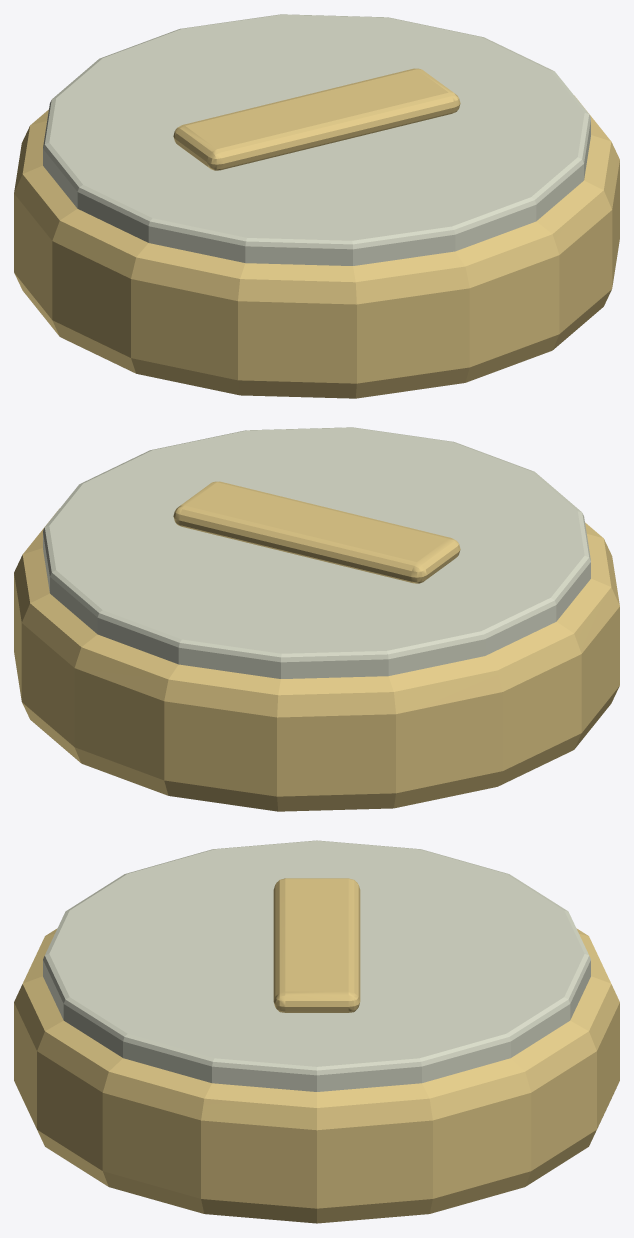
File: scrap_coin.glb
3 views of the same model, one above another, from view 1: azimuth 30°, elevation 25°; view 2: azimuth 150°, elevation 25°; view 3: azimuth 270°, elevation 25° (orthographic).
Parts seen in each view (by area): view 1: Surface_WorldBrass, Surface_WorldIvory; view 2: Surface_WorldBrass, Surface_WorldIvory; view 3: Surface_WorldIvory, Surface_WorldBrass.
Part boxes in pixels (x1,y1,x2,y2): Surface_WorldBrass: [14, 68, 619, 398]; Surface_WorldIvory: [43, 14, 590, 265]; Surface_WorldBrass: [14, 481, 619, 811]; Surface_WorldIvory: [43, 427, 590, 678]; Surface_WorldIvory: [43, 840, 590, 1091]; Surface_WorldBrass: [14, 878, 619, 1223].
Bounding box in the file's own units: 0.42 × 0.131 × 0.42.
